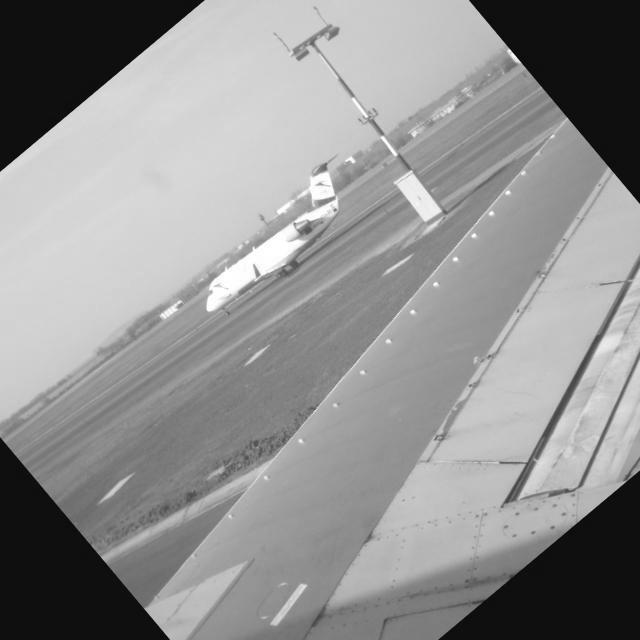aeroplane: (170, 147, 365, 328)
